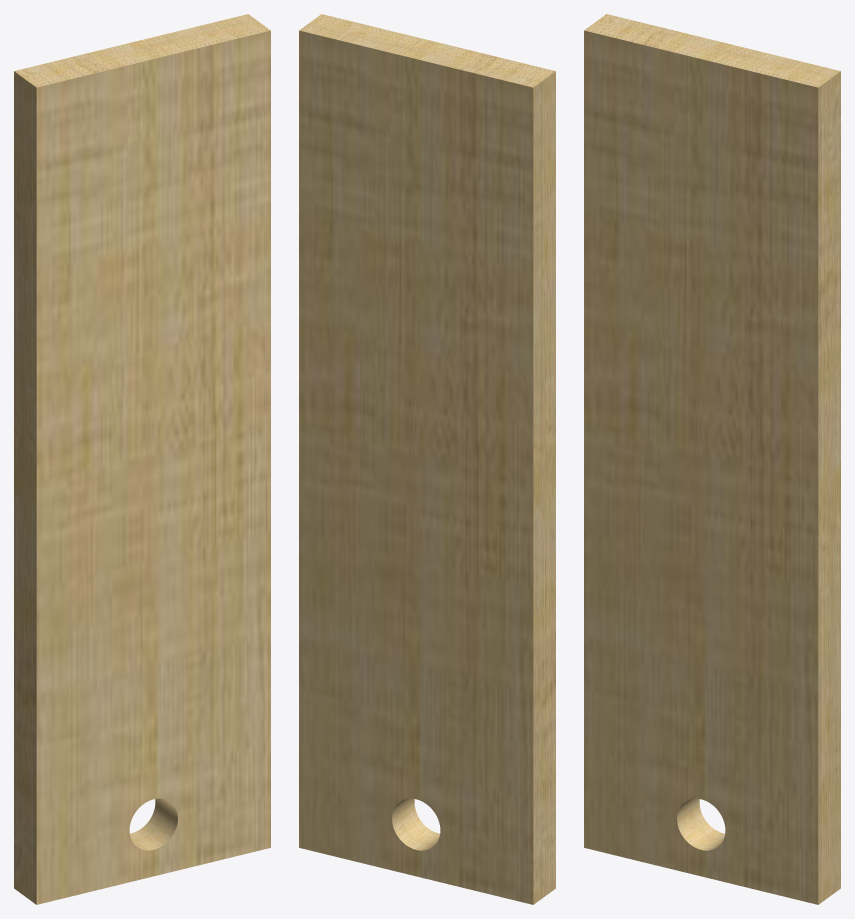
Rendered from Hole1.obj.
3 views of the same model, side by side, from view 1: azimuth 30°, elevation 25°; view 2: azimuth 150°, elevation 25°; view 3: azimuth 330°, elevation 25° (orthographic).
Visible parts, largest first — view 1: Object.1; view 2: Object.1; view 3: Object.1.
Boxes of the visible parts, x1,y1,x2,y2 form: Object.1: [14, 14, 270, 904]; Object.1: [299, 14, 555, 904]; Object.1: [584, 14, 840, 904].
Bounding box in the file's own units: 60 × 200 × 10.
